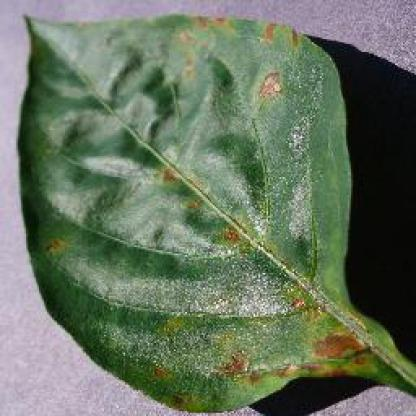bad leaf: (161, 327, 375, 412), (172, 11, 302, 103), (161, 164, 264, 259)
